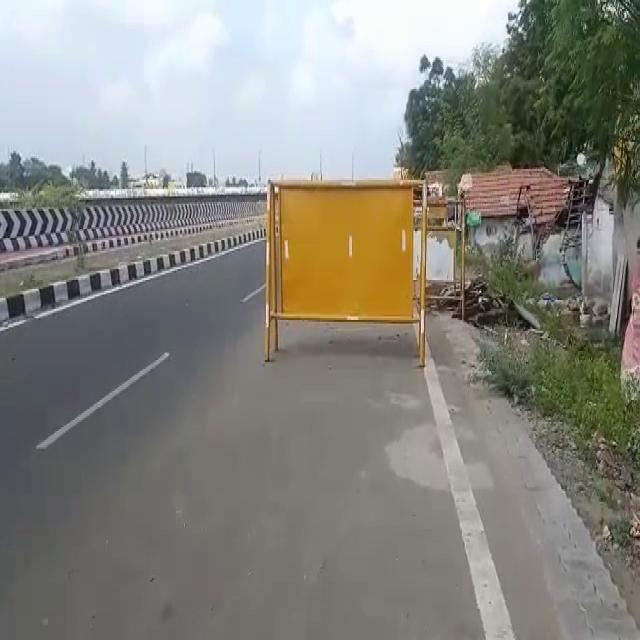fallen_object: (213, 136, 450, 380)
